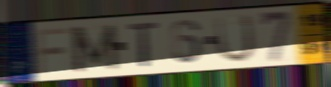6: (171, 18, 204, 66)
7: (259, 10, 294, 64)
F: (34, 26, 72, 76)
M: (69, 22, 120, 74)
T: (127, 20, 161, 69)
U: (214, 13, 256, 65)
